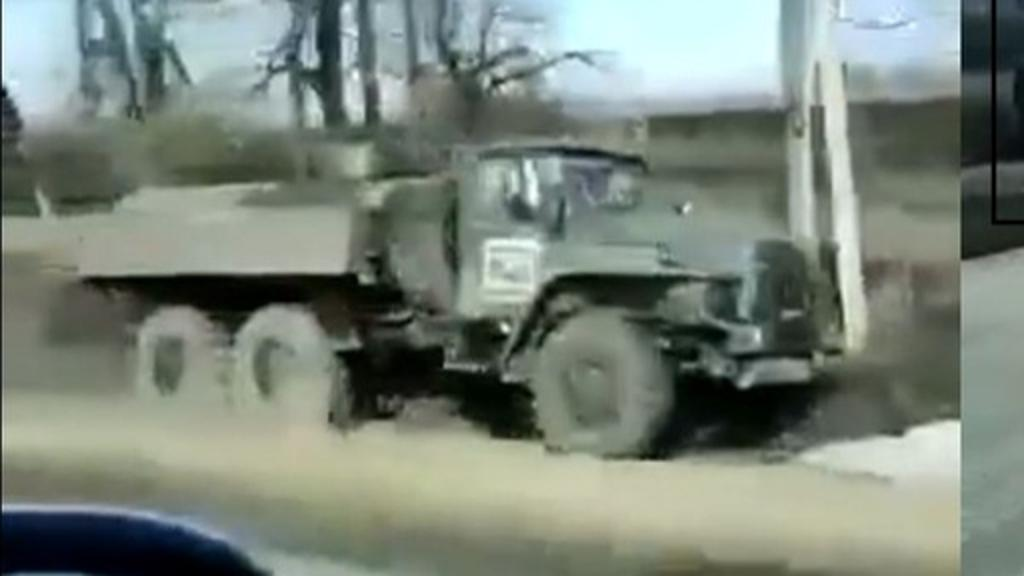TRUCK: (24, 120, 836, 480)
